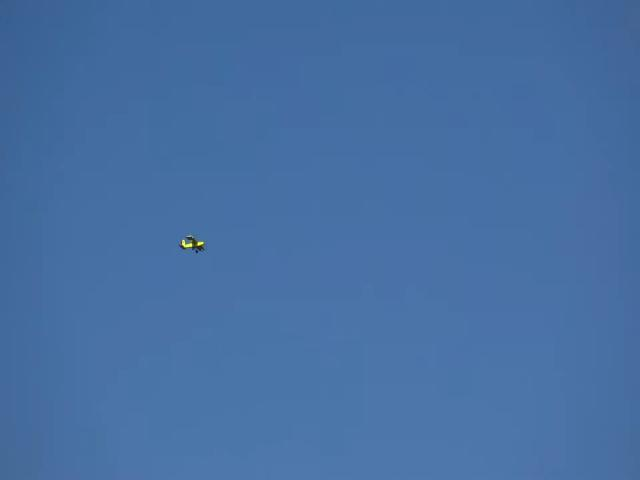plane: (179, 236, 206, 255)
